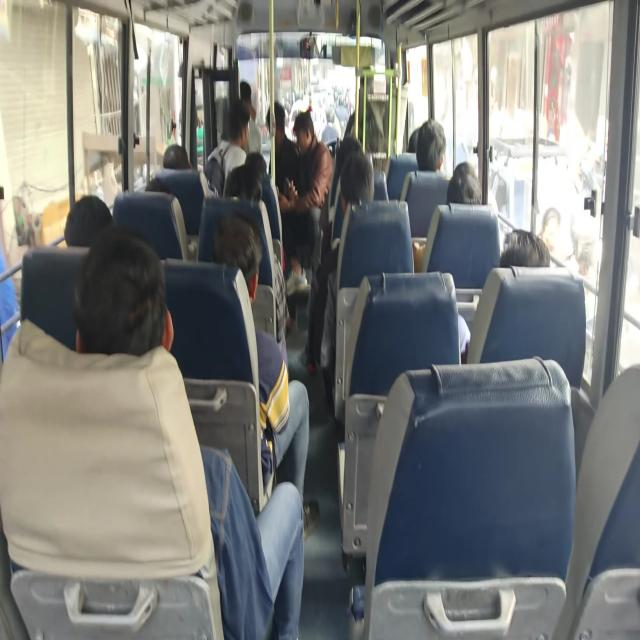person: (1, 225, 304, 638), (211, 212, 318, 538), (200, 445, 304, 639), (301, 152, 374, 372), (458, 228, 550, 356), (277, 110, 333, 292), (203, 99, 250, 196), (266, 101, 299, 197), (64, 194, 113, 247), (499, 228, 550, 268), (239, 80, 262, 155), (415, 119, 446, 172), (446, 160, 482, 204), (162, 144, 191, 170)
